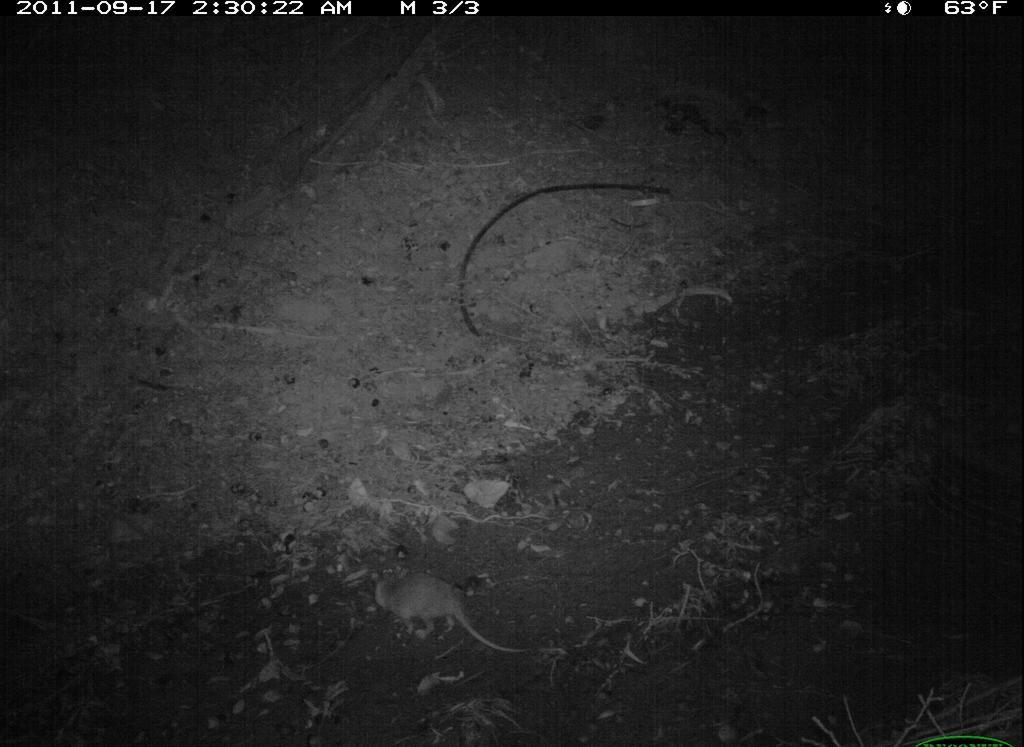opossum: (363, 555, 519, 657)
